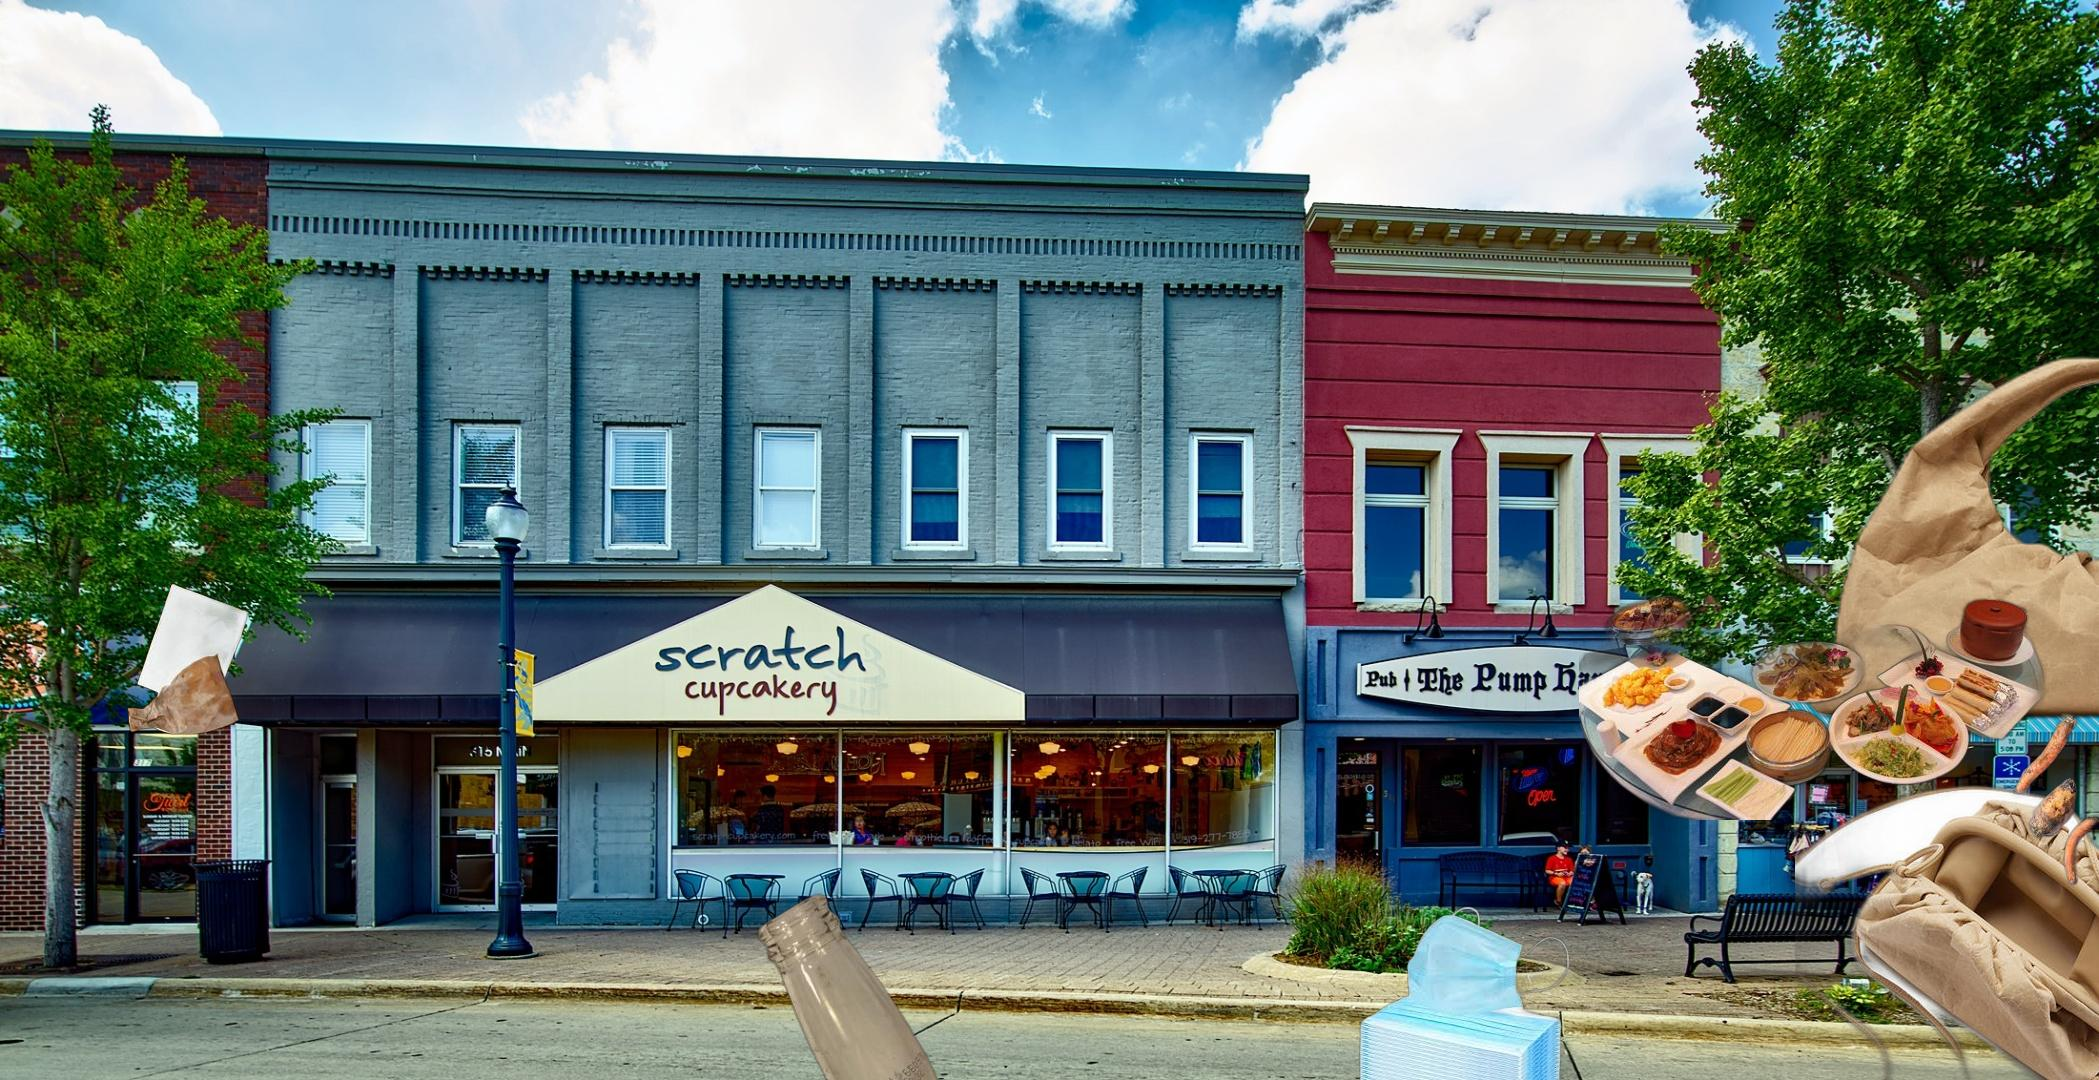biological: (1578, 526, 2049, 820), (1997, 703, 2099, 886)
glass: (753, 890, 1056, 1080)
paper-bag: (125, 581, 252, 737)
trash: (1357, 904, 1571, 1080)
trashbox-cardboard: (1795, 350, 2099, 1080)
